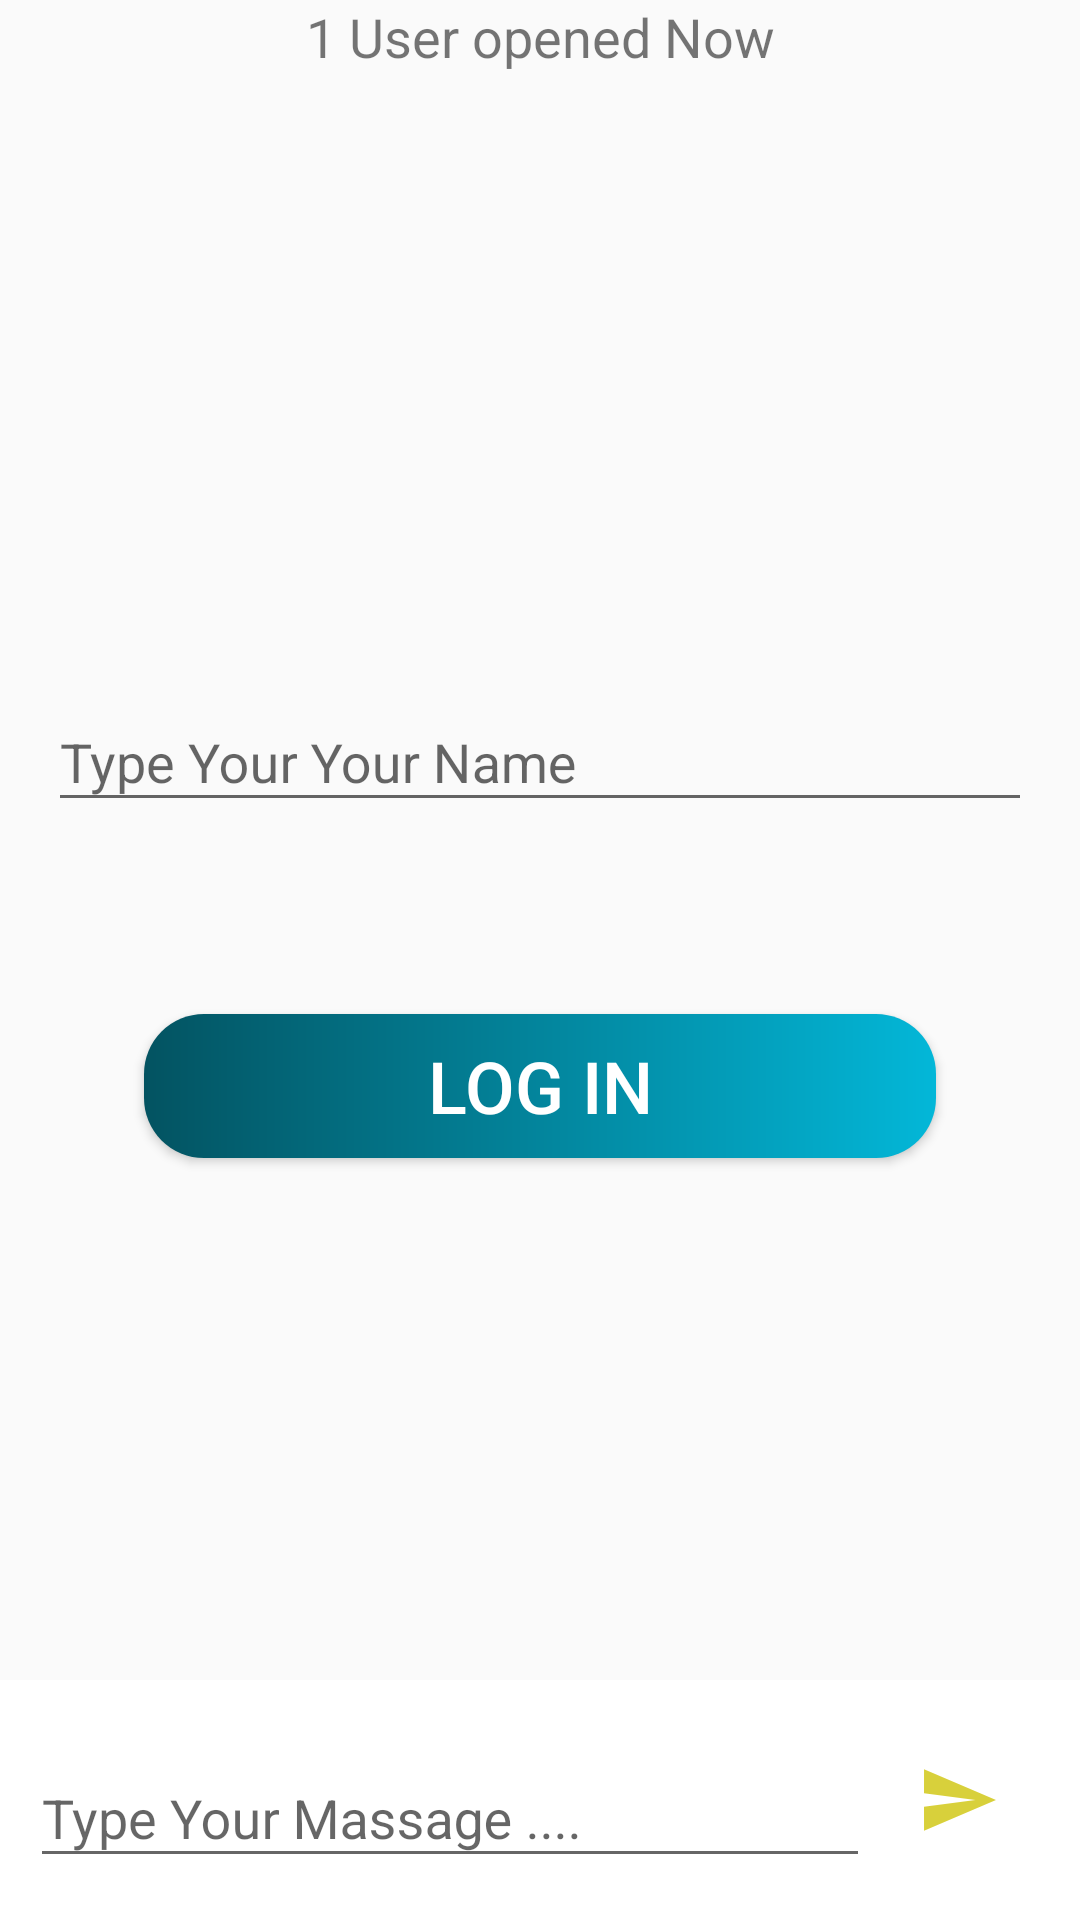

Named icons in this screenshot (1080px×1920px) and their bounding boxes, (x1, y1, x2, y2):
send: (924, 1769, 996, 1831)
